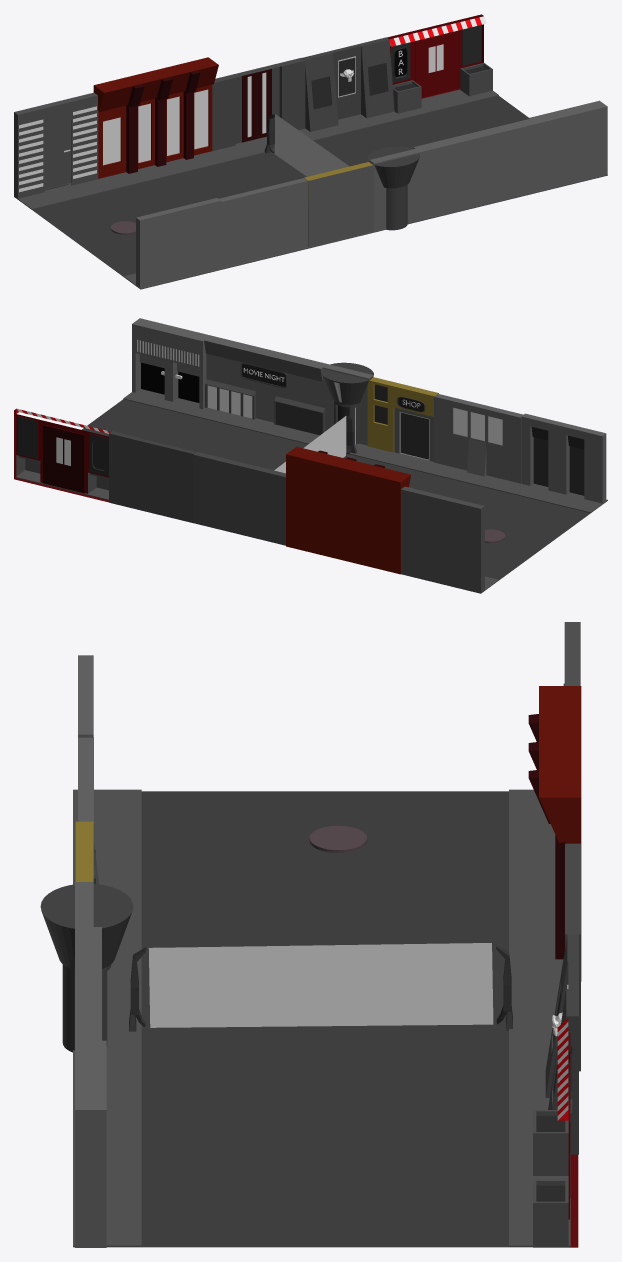
File: Street.fbx
3 views of the same model, one above another, from view 1: azimuth 30°, elevation 25°; view 2: azimuth 150°, elevation 25°; view 3: azimuth 270°, elevation 25° (orthographic). The views are drawn at different scales.
Parts seen in each view (by area): view 1: Buildings 2, Buildings 1, Road, SideWalk 2, Laser, SideWalk 1; view 2: Buildings 2, Buildings 1, Road, SideWalk 1, Laser, SideWalk 2; view 3: Road, Laser, Buildings 2, Buildings 1, SideWalk 2, SideWalk 1, Rogar.
Part boxes in pixels (<box>): Buildings 2: <box>14,14,492,198</box>; Buildings 1: <box>136,100,607,287</box>; Road: <box>32,96,528,276</box>; SideWalk 2: <box>16,89,498,209</box>; Laser: <box>274,114,349,176</box>; SideWalk 1: <box>123,174,607,289</box>; Buildings 2: <box>14,408,484,593</box>; Buildings 1: <box>132,318,606,503</box>; Road: <box>81,399,590,580</box>; SideWalk 1: <box>123,389,607,513</box>; Laser: <box>274,416,346,473</box>; SideWalk 2: <box>16,470,498,591</box>; Road: <box>141,791,508,1247</box>; Laser: <box>148,943,493,1027</box>; Buildings 2: <box>528,622,581,1247</box>; Buildings 1: <box>40,655,133,1247</box>; SideWalk 2: <box>509,789,570,1247</box>; SideWalk 1: <box>73,789,141,1247</box>; Rogar: <box>309,825,367,852</box>.
Bounding box in the file's own units: 136 × 25.9 × 68.4.
